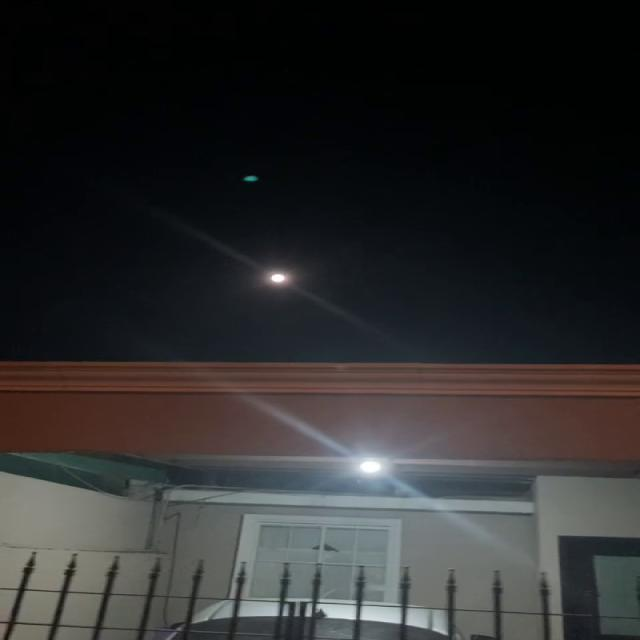moon: (252, 262, 304, 294)
